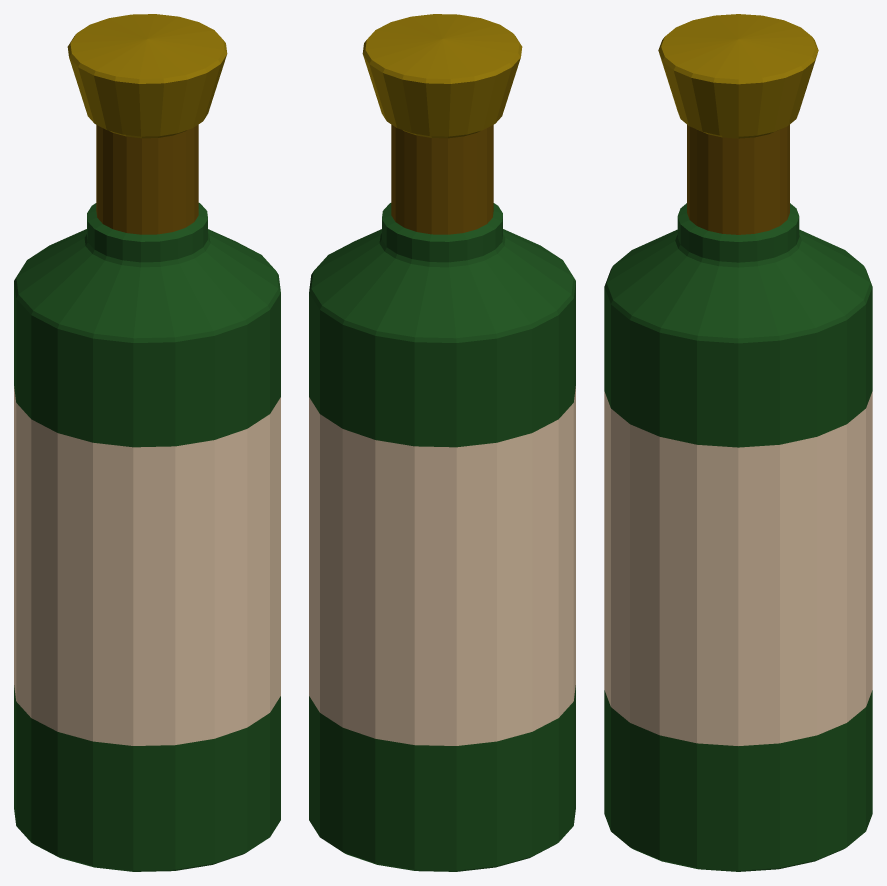
The model's file is bottle coloured.fbx.
The picture shows the model from 3 angles, left to right: view 1: azimuth 30°, elevation 25°; view 2: azimuth 150°, elevation 25°; view 3: azimuth 270°, elevation 25°; orthographic projection.
Visible parts, largest first — view 1: pCylinder8; view 2: pCylinder8; view 3: pCylinder8.
Boxes of the visible parts, box(x1,y1,x2,y2) form: pCylinder8: box(14, 14, 280, 871); pCylinder8: box(309, 14, 575, 871); pCylinder8: box(604, 14, 872, 871).
Bounding box in the file's own units: 0.962 × 3.08 × 0.962.
